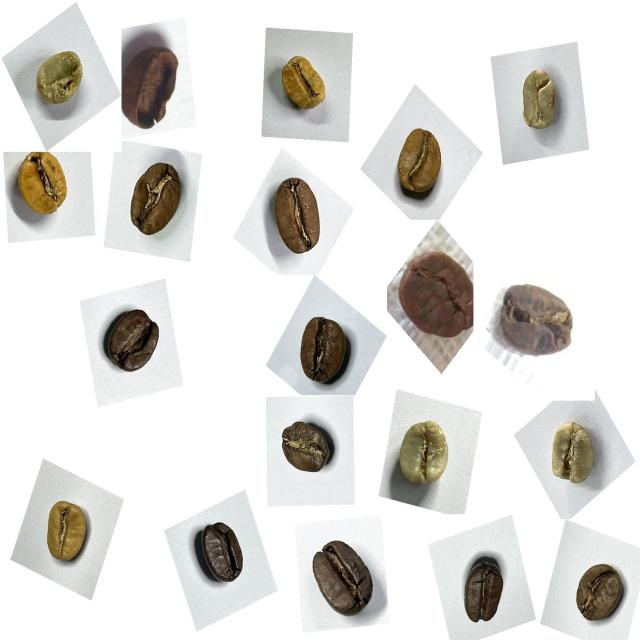bad: (389, 238, 486, 348), (495, 273, 587, 368), (112, 26, 187, 140)
dark: (304, 528, 383, 627), (451, 543, 517, 634), (187, 513, 255, 600)
green: (387, 404, 462, 498), (536, 405, 605, 495), (501, 57, 568, 146), (26, 38, 98, 120)
light: (5, 146, 83, 232), (386, 114, 457, 208), (35, 488, 103, 578), (270, 44, 340, 124)
medium: (116, 151, 197, 250), (257, 166, 334, 269), (97, 300, 173, 388), (288, 310, 360, 394), (563, 550, 631, 633), (274, 412, 339, 486)
